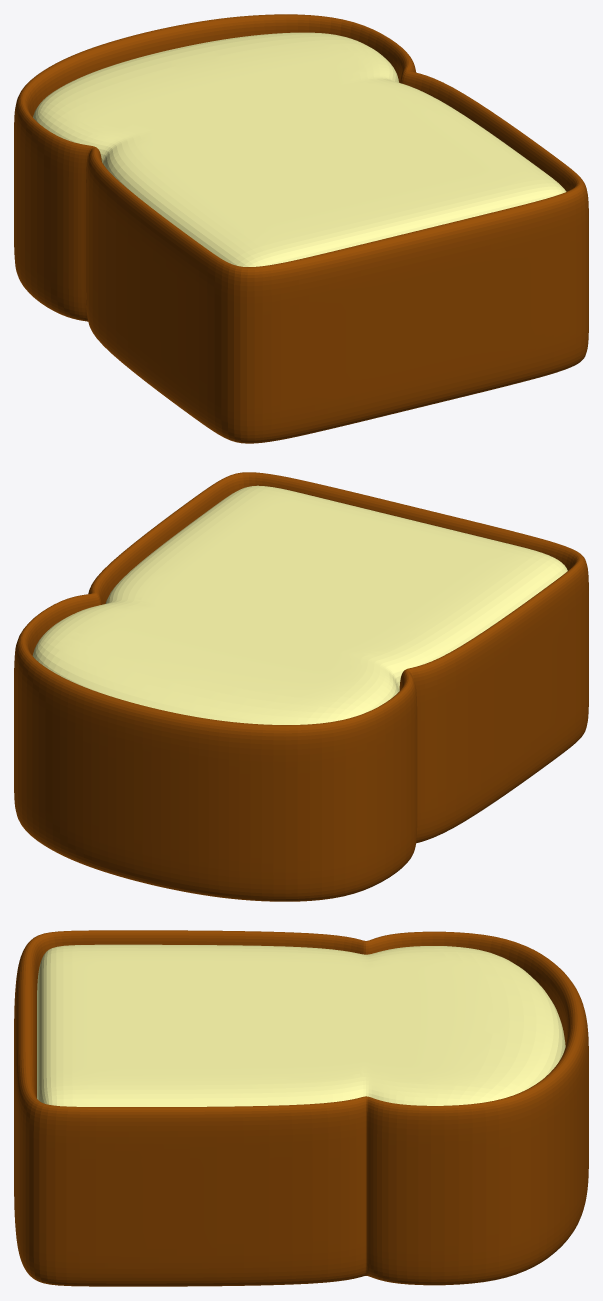
Rendered from 3pieceBread.fbx.
The picture shows the model from 3 angles, top to bottom: view 1: azimuth 30°, elevation 25°; view 2: azimuth 150°, elevation 25°; view 3: azimuth 270°, elevation 25°; orthographic projection.
Visible parts, largest first — view 1: Plane.002; view 2: Plane.002; view 3: Plane.002.
Boxes of the visible parts, <box> form: Plane.002: <box>14,14,588,443</box>; Plane.002: <box>14,472,588,901</box>; Plane.002: <box>14,930,588,1286</box>.
Size of the model in its own units: 217 by 100 by 286.
